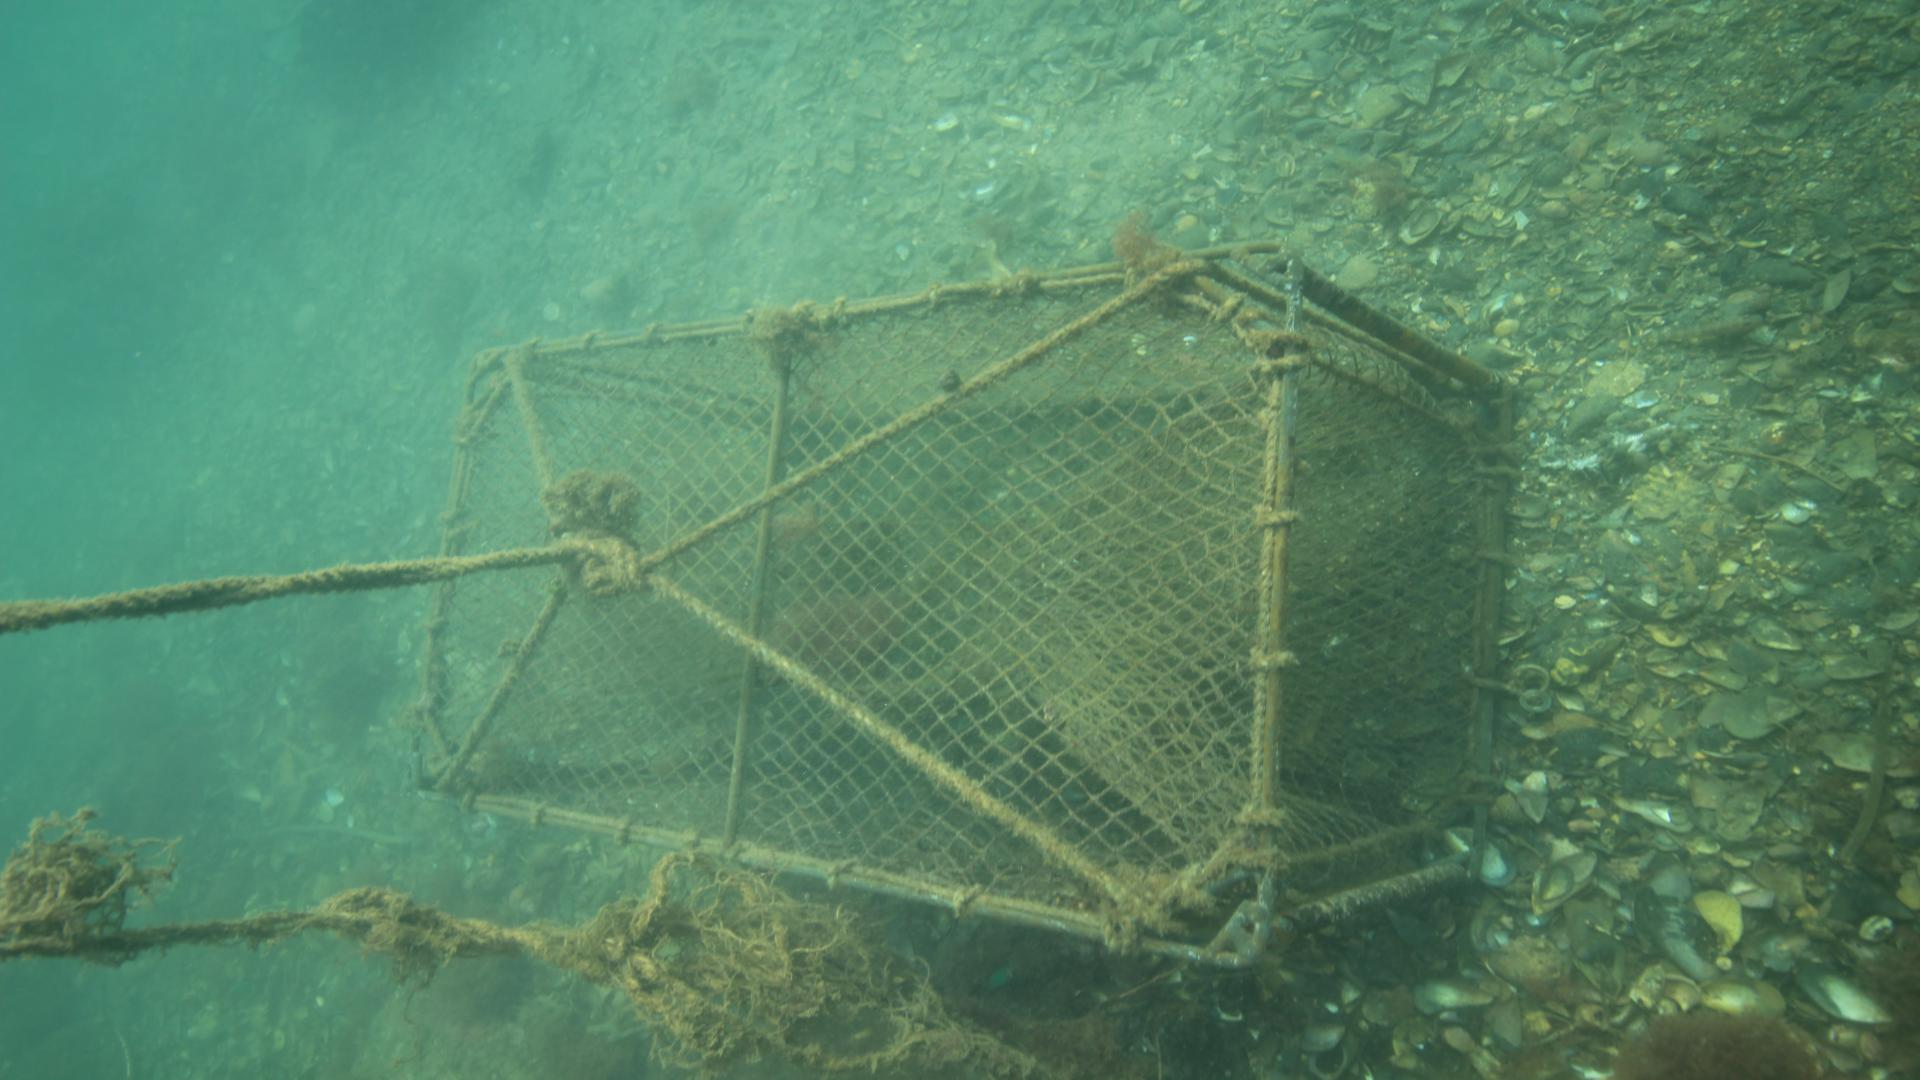bundle of ropes: (0, 558, 433, 640)
rectangular fish trap: (405, 241, 1518, 969)
